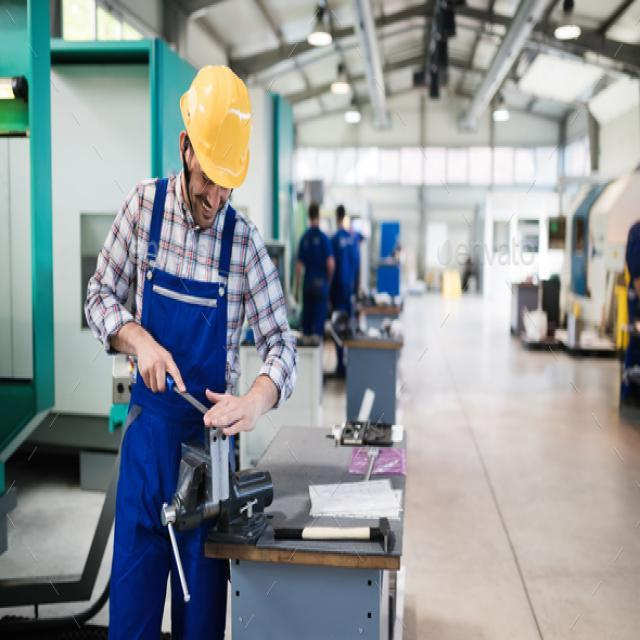helmet: (175, 66, 268, 203)
